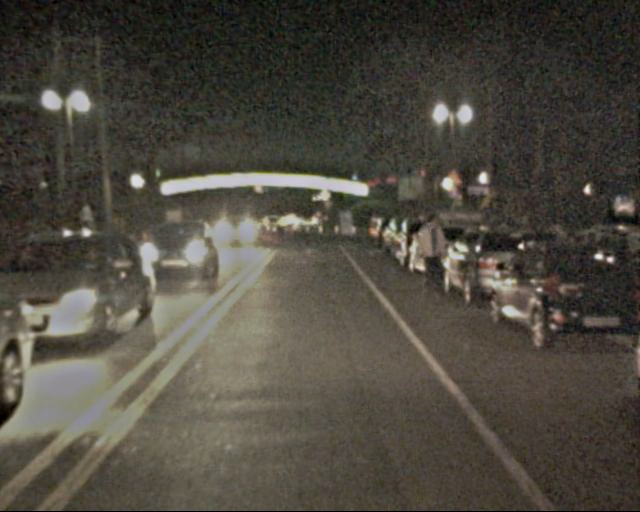person: (412, 216, 448, 305)
